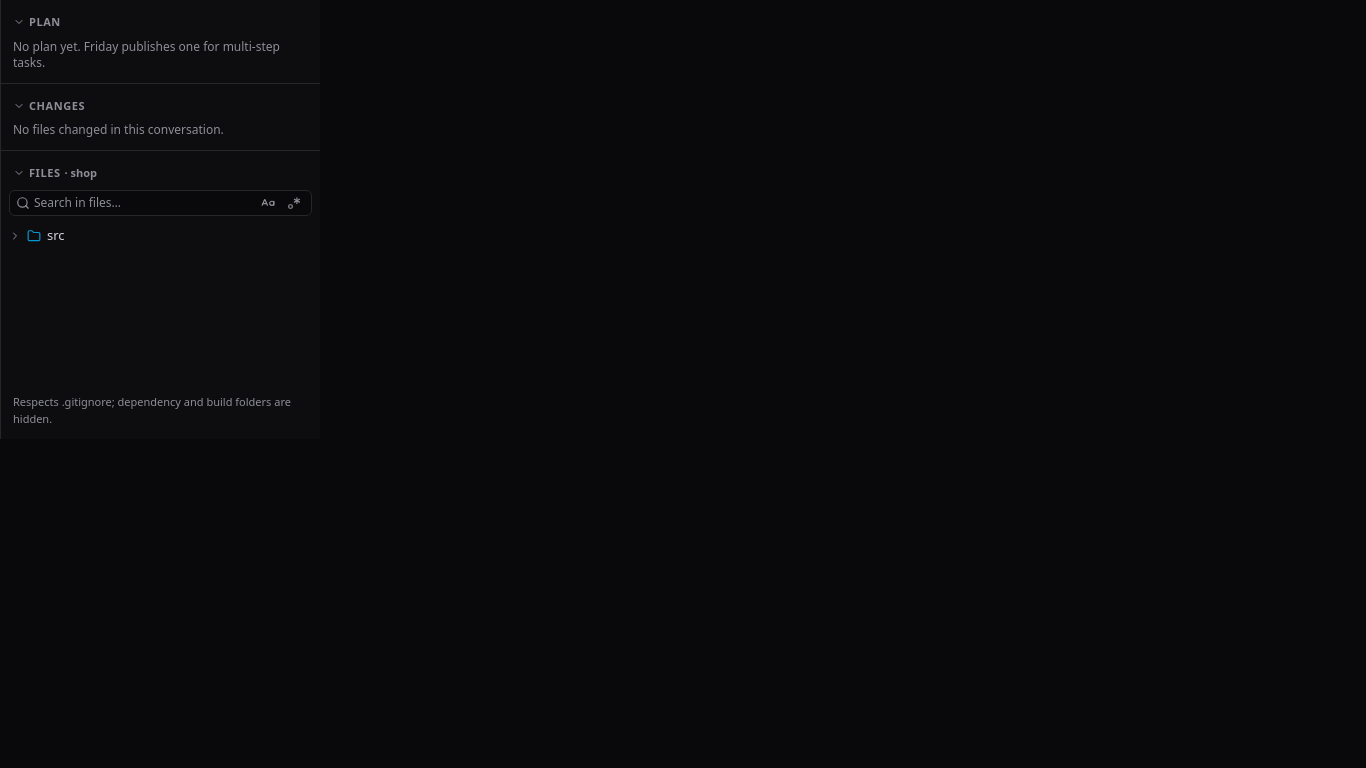
Scenario: project search › searches as you type, groups results by file, and opens one at its line
Expected: the button "src" is shown, [5, 224, 316, 248]
Type "get" into the search field labelled "Search in files".
click(144, 202); type("get")  # box [34, 190, 253, 214]
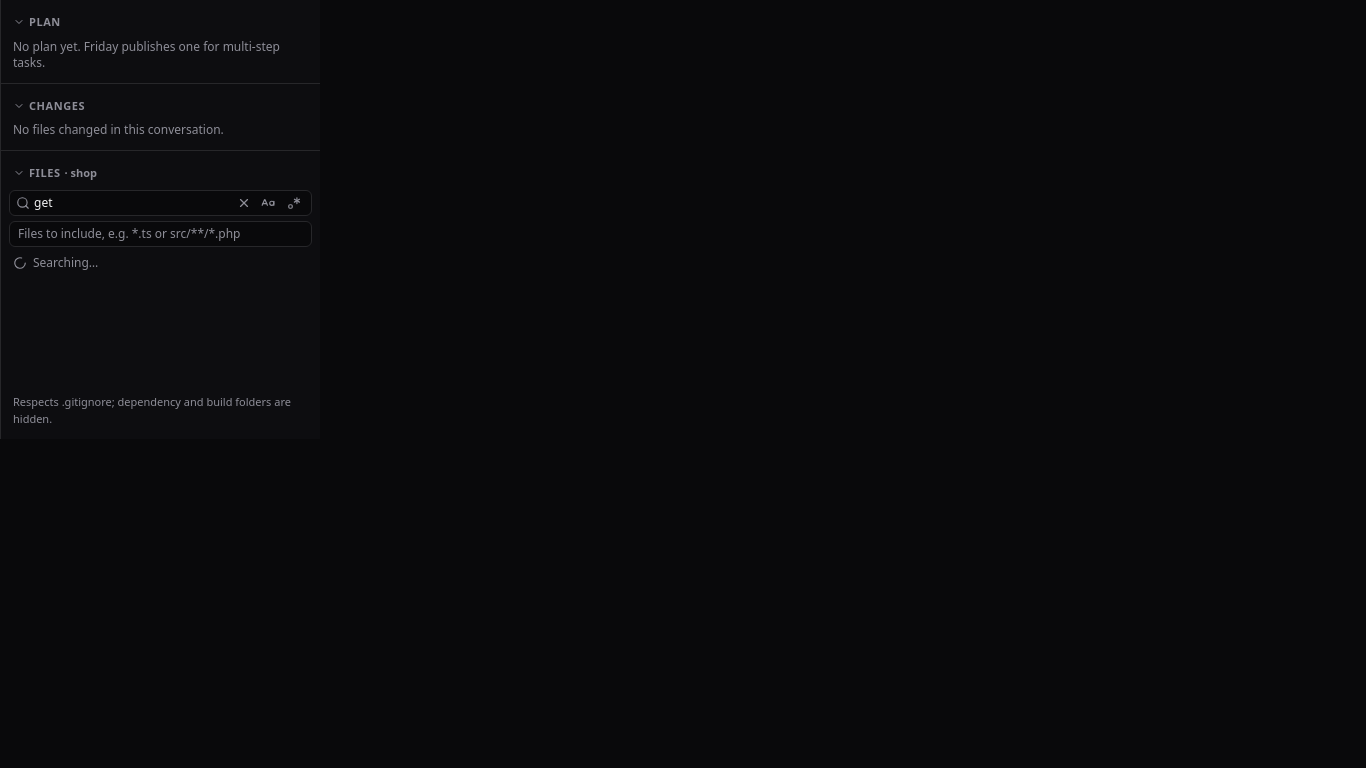
Replace the text in the search field named "Search in files" with "getUser\\(" at (132, 202), box [34, 190, 231, 214]
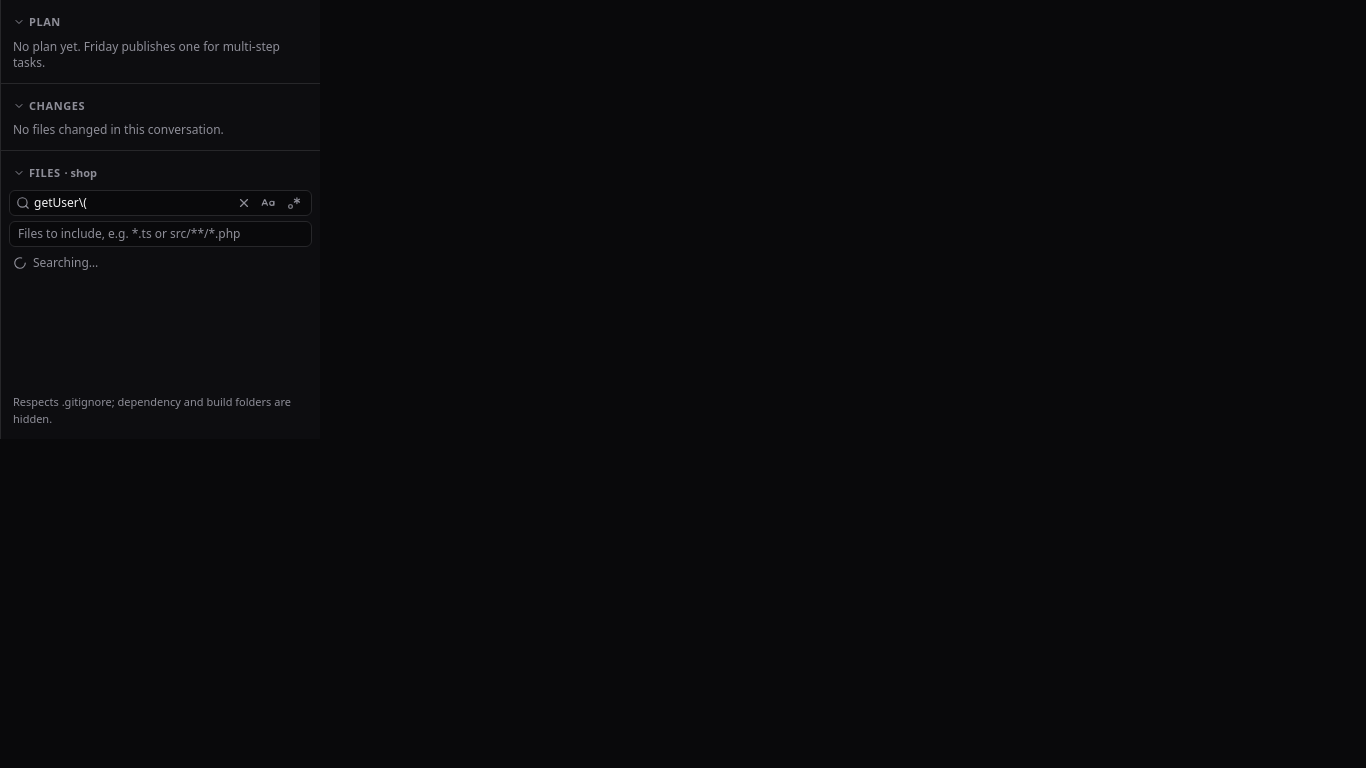
Click the button named "Use regular expression".
click(294, 202)  # box [283, 192, 305, 214]
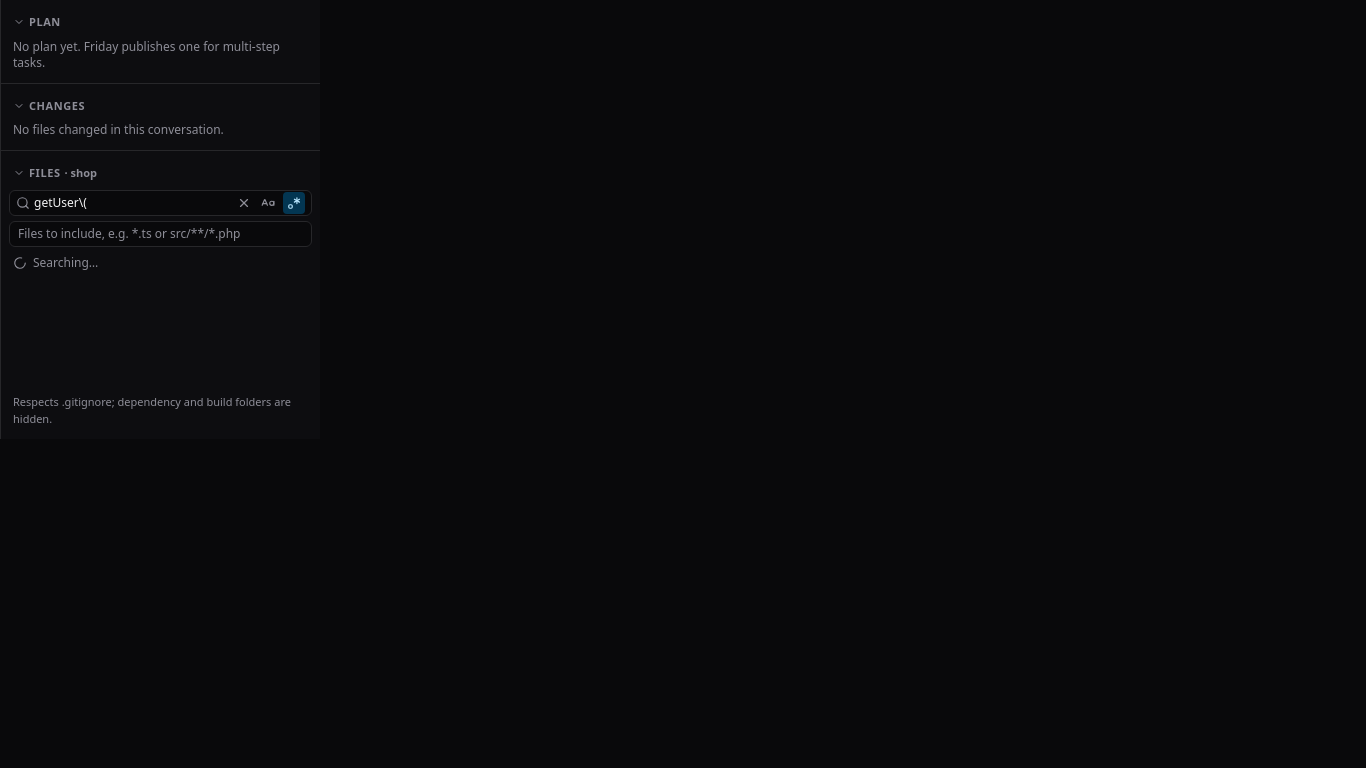
Type "*.ts" into the field labelled "Files to include".
click(160, 234); type("*.ts")  # box [9, 220, 312, 246]
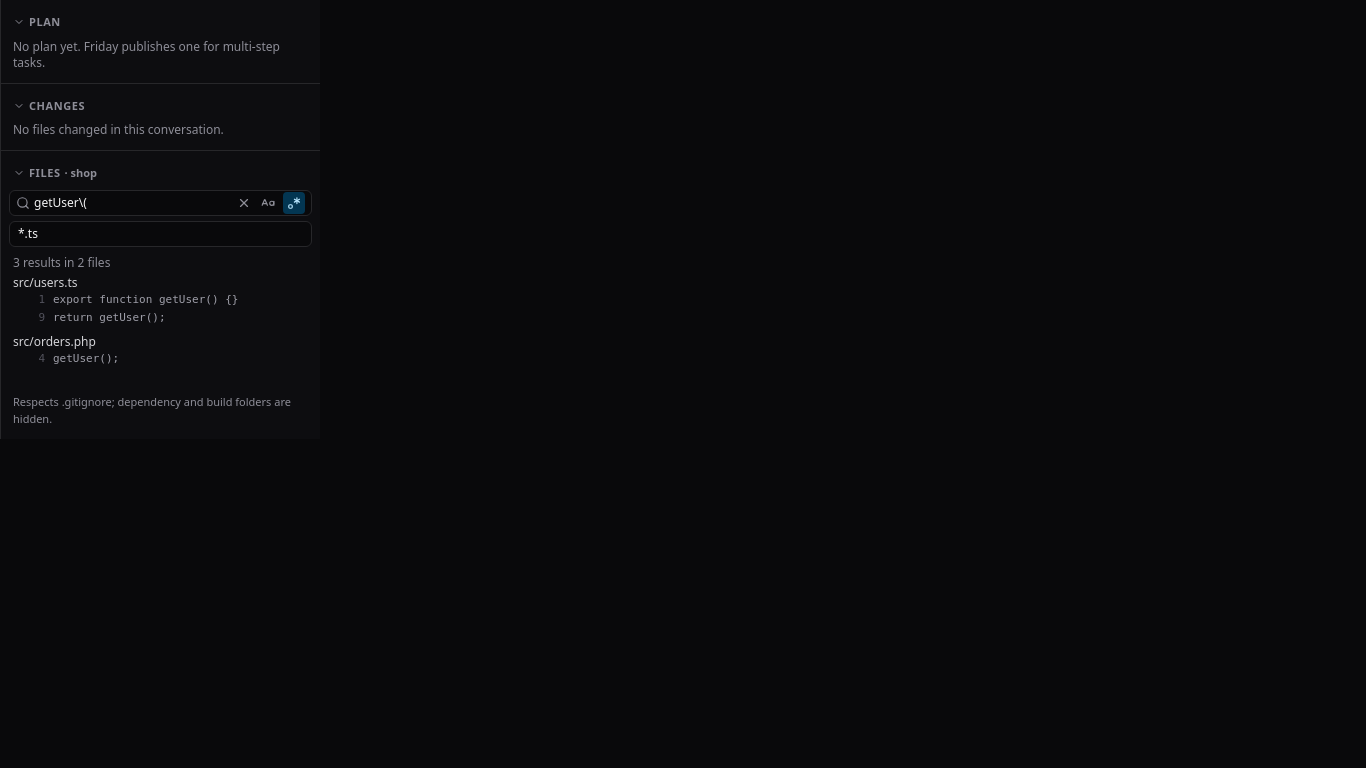
Now the list named "Search results" is shown, box [9, 274, 312, 368]
Now the text "3 results in 2 files" is shown, box [13, 254, 110, 270]
Click the button with aria-label "src/users.ts line 9".
click(160, 319)  # box [9, 309, 312, 328]
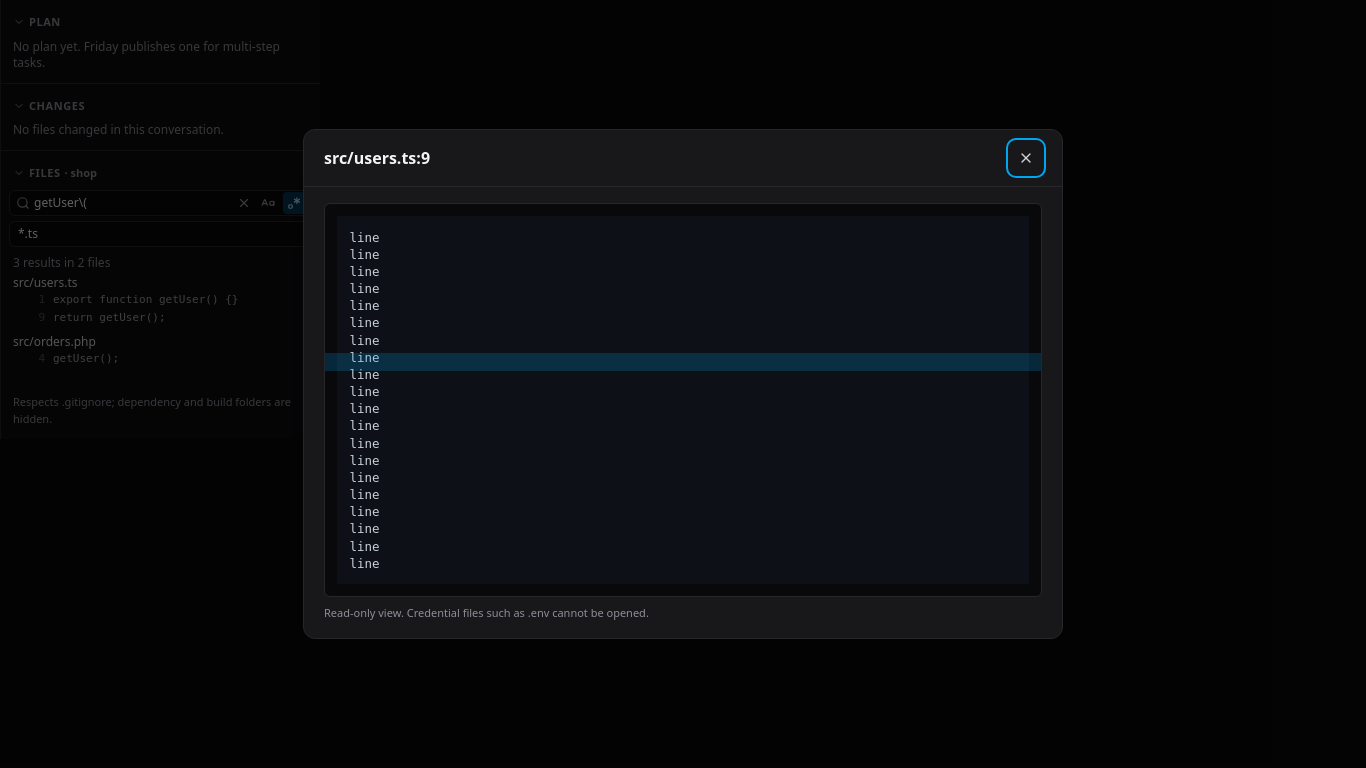
Now the heading "src/users.ts:9" is shown, box [324, 146, 430, 170]
